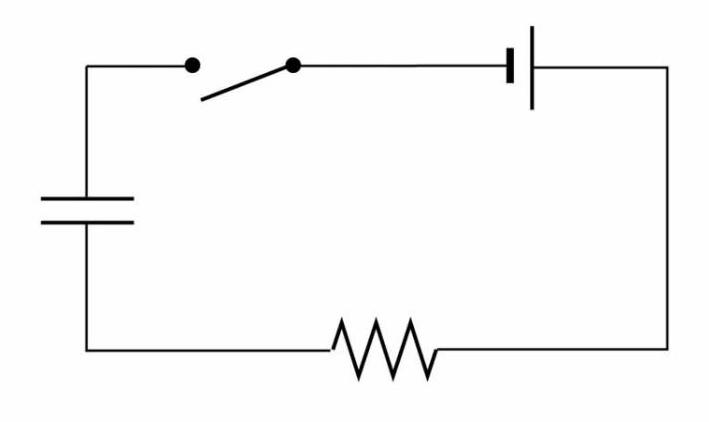Capacitor: (38, 169, 178, 261)
